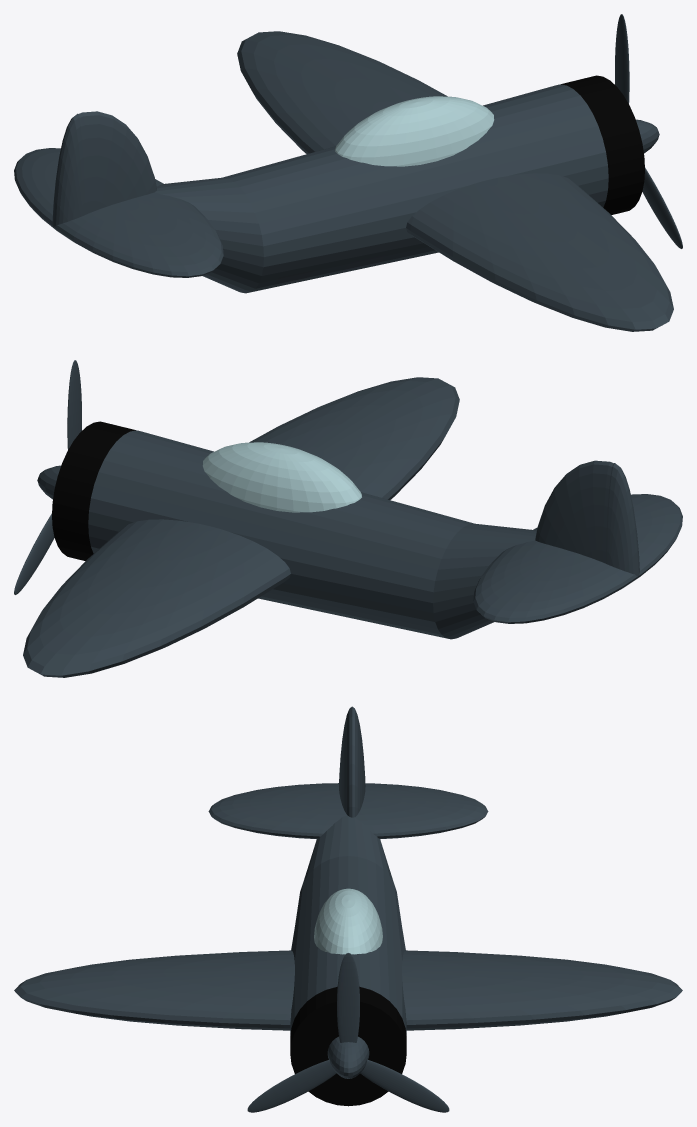
File: us_fighter.fbx
3 views of the same model, one above another, from view 1: azimuth 30°, elevation 25°; view 2: azimuth 150°, elevation 25°; view 3: azimuth 270°, elevation 25° (orthographic). The views are drawn at different scales.
Visible parts, largest first — view 1: Fighter; view 2: Fighter; view 3: Fighter.
Boxes of the visible parts, bbox=[...] form: Fighter: bbox=[14, 14, 682, 331]; Fighter: bbox=[14, 360, 682, 677]; Fighter: bbox=[14, 706, 682, 1112].
Bounding box in the file's own units: 99.47 × 35.19 × 115.
3 materials, 3 textured.
